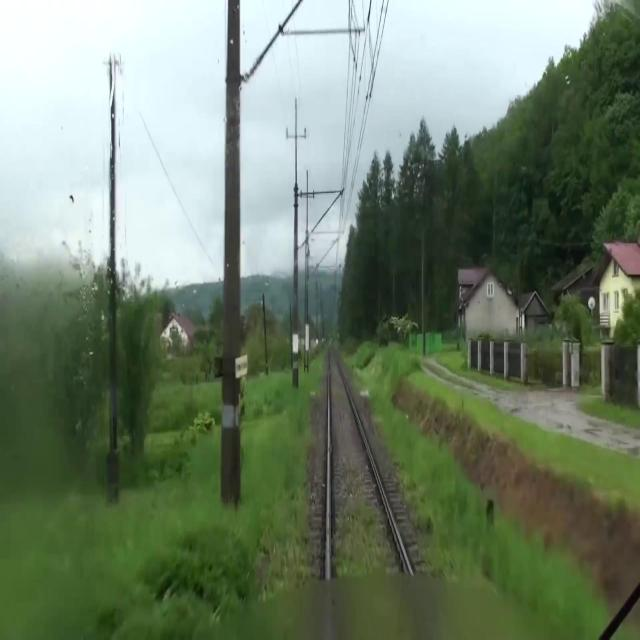rail-track: (330, 347, 428, 639)
